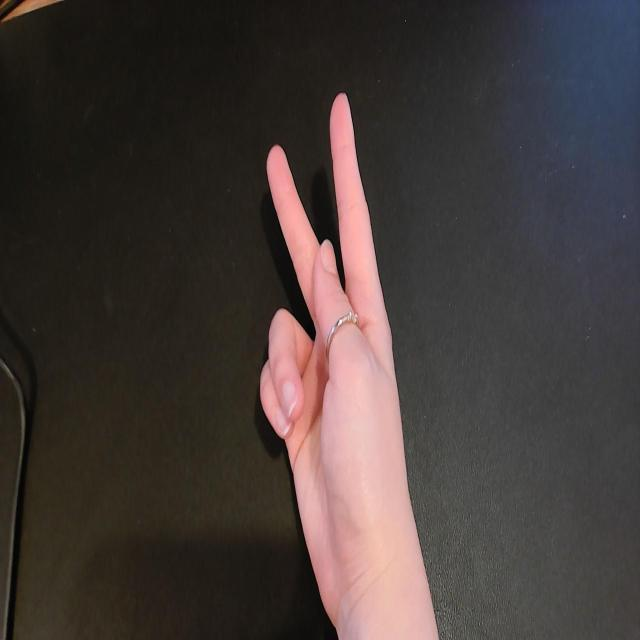K: (257, 84, 426, 622)
